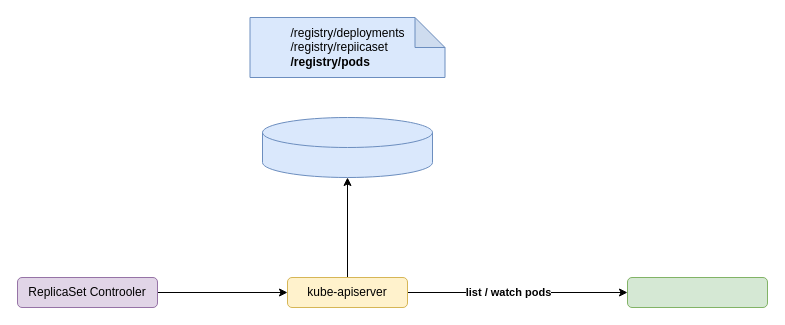
Some shapes in this 785 by 325 pixel diagram are drawn without their labels. The box of each missing label's shape, as (x1, y1, x2, y2) in pixels:
ETCD: (262, 116, 432, 178)
kube-scheduler: (626, 276, 768, 308)
